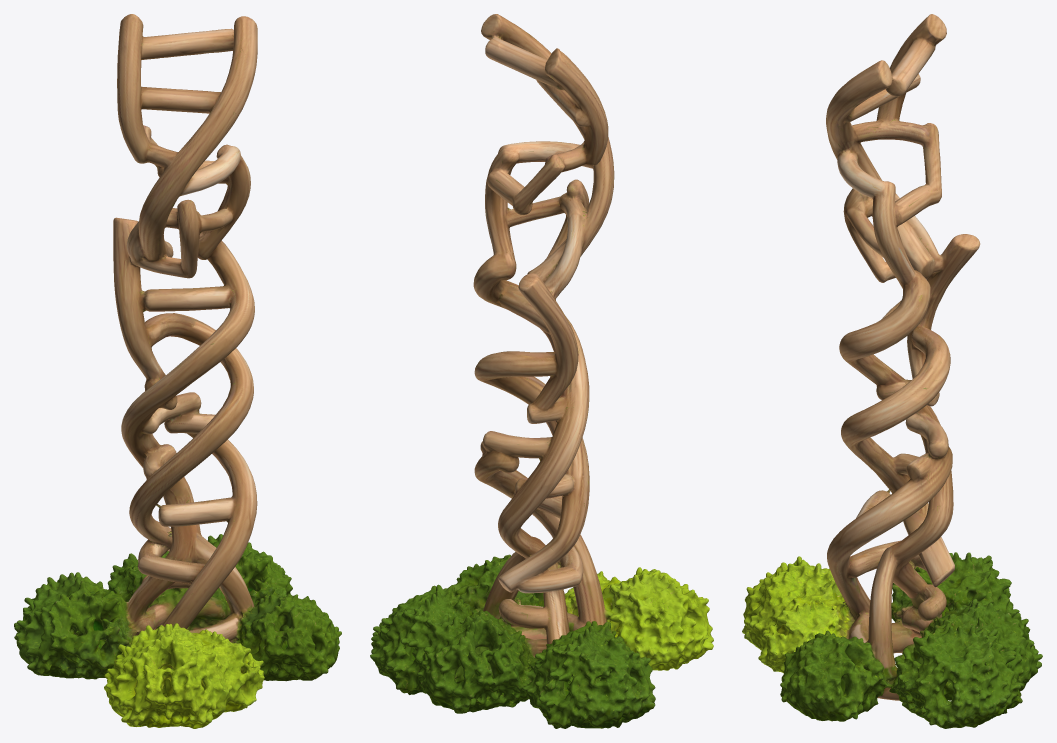
The model's file is raw.glb.
The picture shows the model from 3 angles, left to right: view 1: azimuth 30°, elevation 25°; view 2: azimuth 150°, elevation 25°; view 3: azimuth 270°, elevation 25°; orthographic projection.
Parts seen in each view (by area): view 1: Mesh_0; view 2: Mesh_0; view 3: Mesh_0.
Boxes of the visible parts, x1=… form: Mesh_0: x1=14, y1=14, x2=341, y2=728; Mesh_0: x1=370, y1=14, x2=713, y2=728; Mesh_0: x1=742, y1=14, x2=1042, y2=728.
Bounding box in the file's own units: 0.8381 × 1.91 × 0.8135.
Materials: 1 (1 with a texture image).
